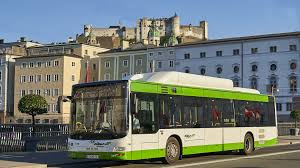bus: (57, 69, 278, 165)
